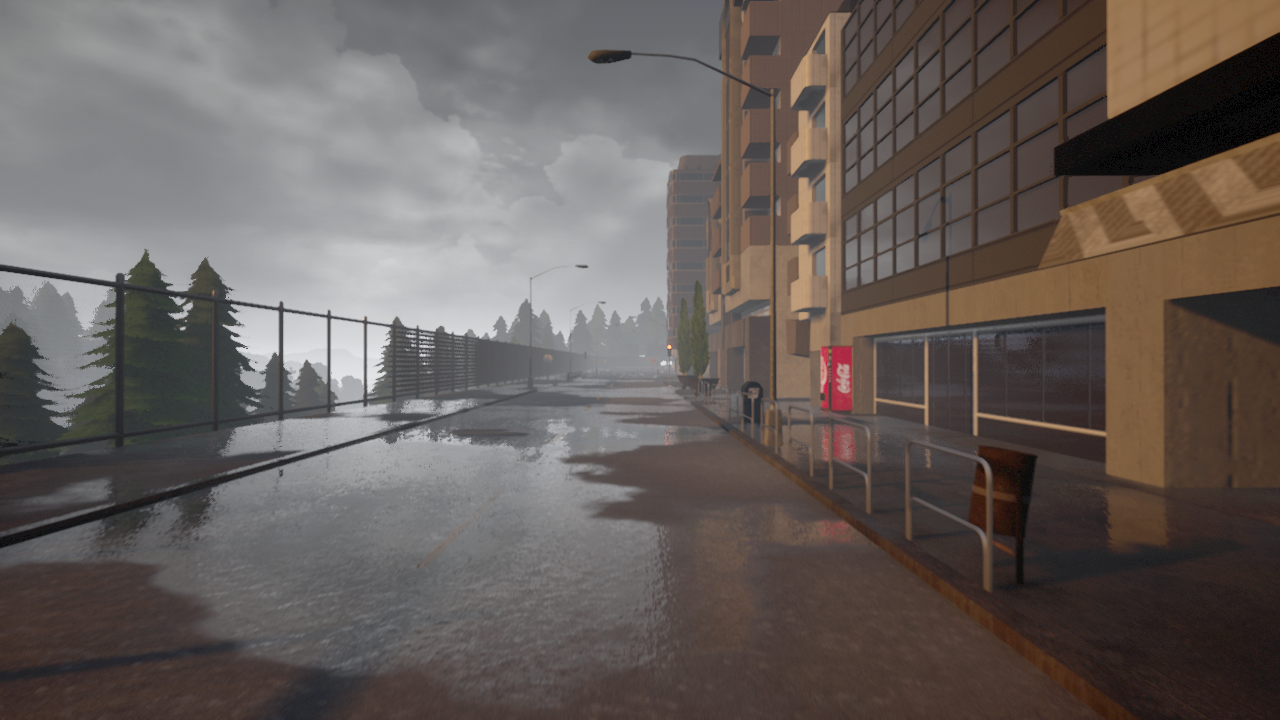red: (666, 344, 672, 357)
